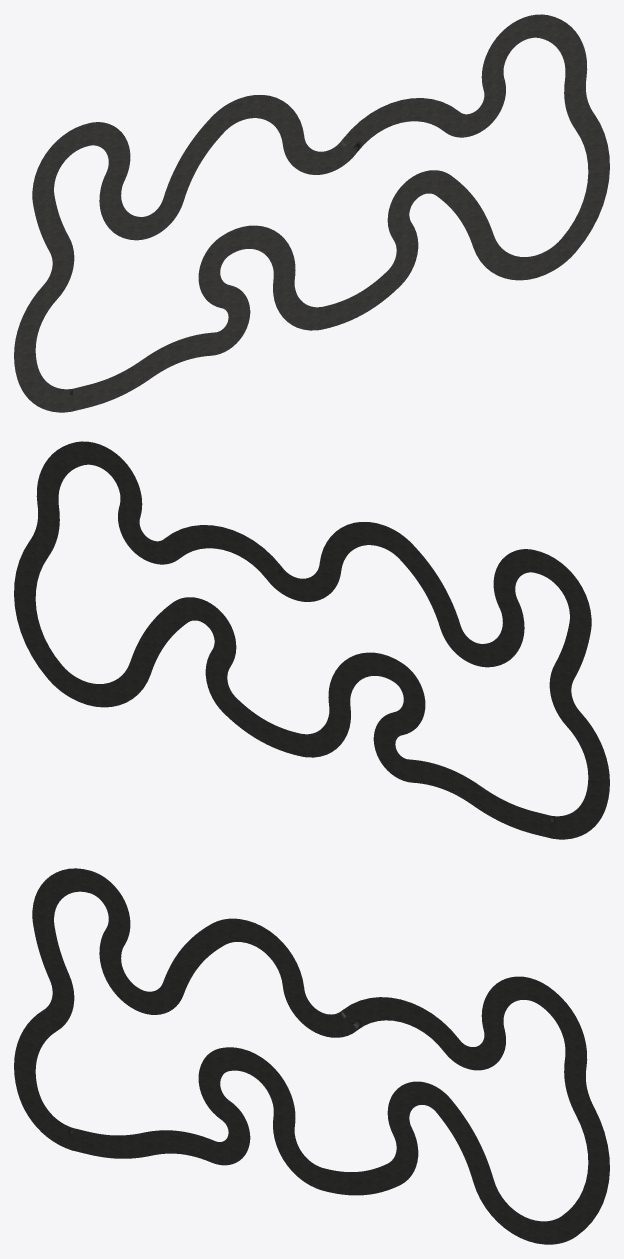
Rendered from track14_road.obj.
3 renders of one model, top to bottom at view 1: azimuth 30°, elevation 25°; view 2: azimuth 150°, elevation 25°; view 3: azimuth 330°, elevation 25°, orthographic.
Parts seen in each view (by area): view 1: road_0_curve_.003; view 2: road_0_curve_.003; view 3: road_0_curve_.003.
Part boxes in pixels (left/top/right/bottom): road_0_curve_.003: left=14, top=14, right=609, bottom=412; road_0_curve_.003: left=14, top=441, right=609, bottom=839; road_0_curve_.003: left=14, top=868, right=609, bottom=1244.
Size of the model in its own units: 44.92 by 20.48 by 0.
Materials: 1 (1 with a texture image).
